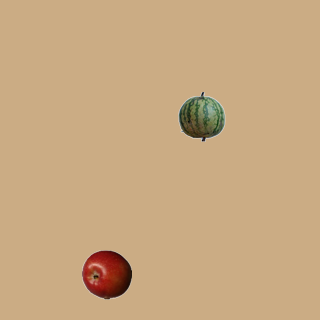Apple Braeburn: (81, 249, 131, 299)
Watermelon: (176, 91, 226, 141)
